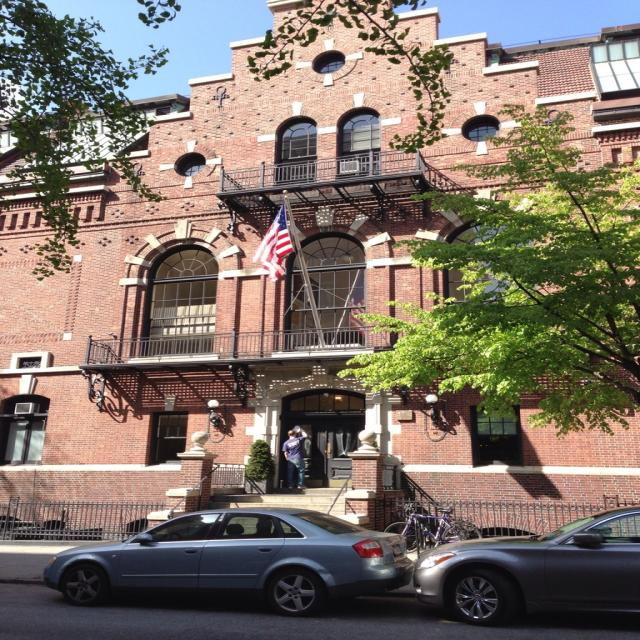car: (38, 500, 417, 609)
